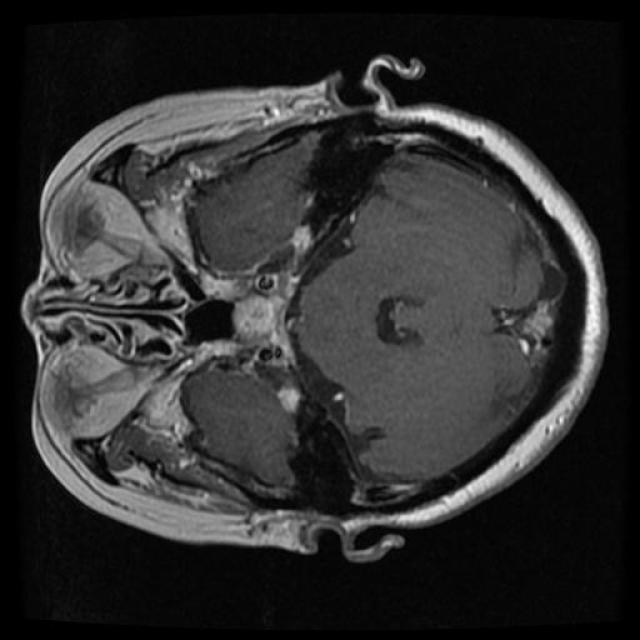Pituitary: (232, 294, 279, 345)
